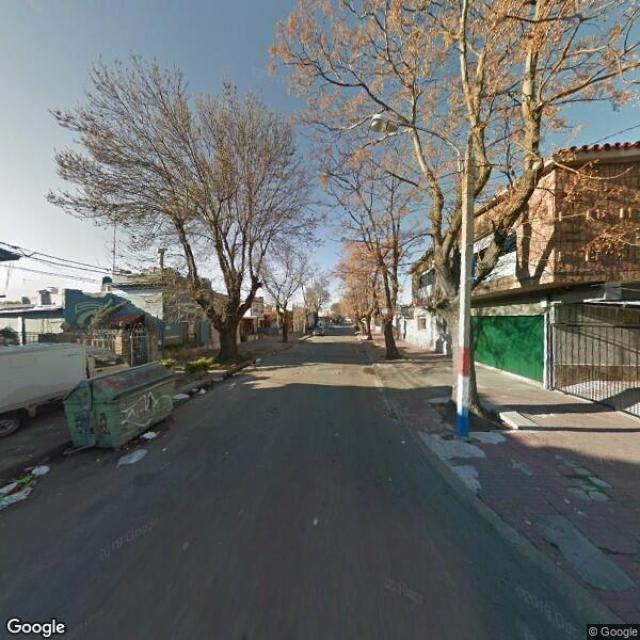garbage container: (56, 357, 184, 464)
